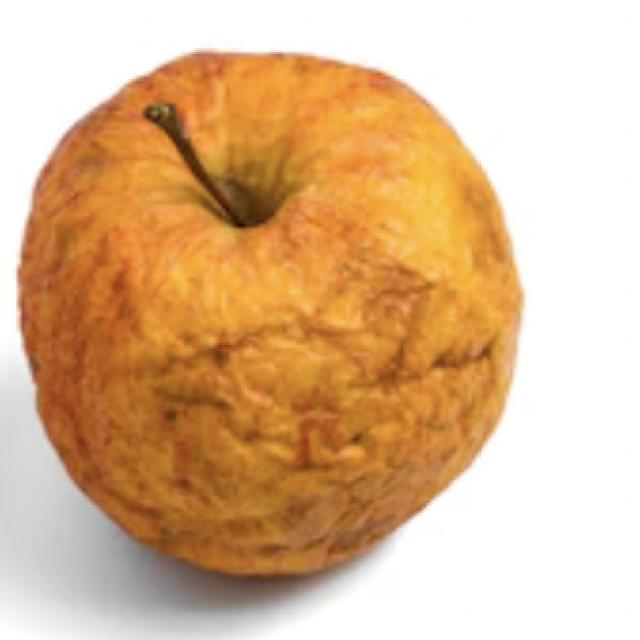rotten_apple: (22, 49, 530, 584)
